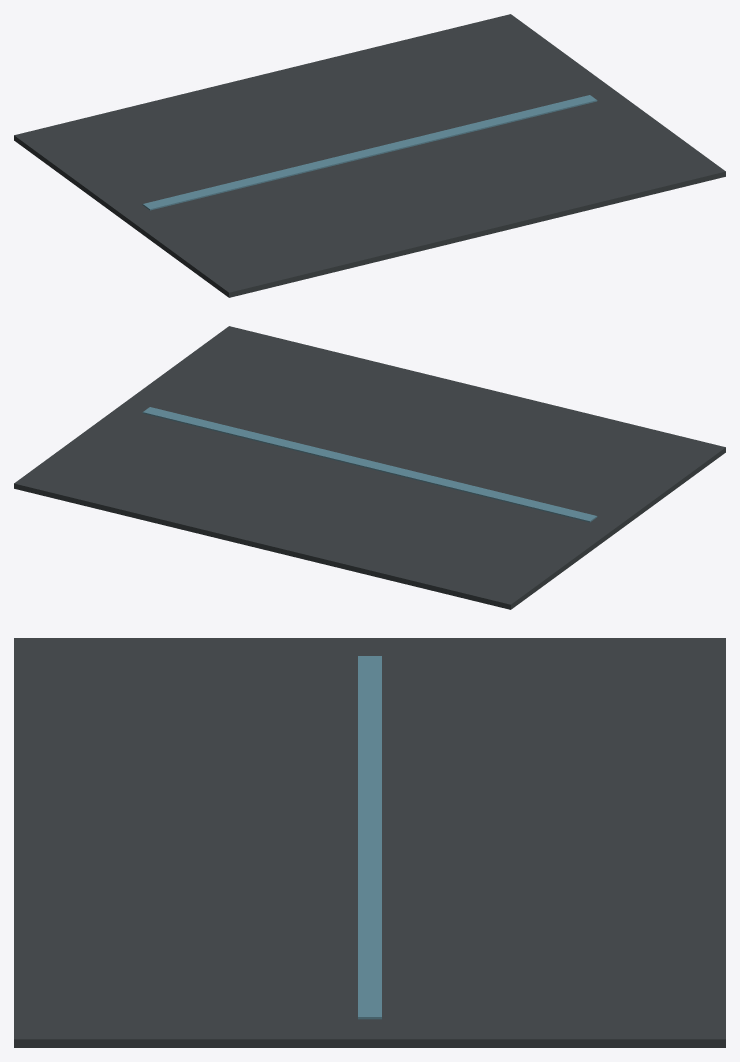
File: endurance-and-gt-paddock-pit-floor-mat-7ffbe3b4__14952.glb
3 renders of one model, top to bottom at view 1: azimuth 30°, elevation 25°; view 2: azimuth 150°, elevation 25°; view 3: azimuth 270°, elevation 25°, orthographic. The views are drawn at different scales.
Parts seen in each view (by area): view 1: pit-floor-mat; view 2: pit-floor-mat; view 3: pit-floor-mat.
Boxes of the visible parts, <box> form: pit-floor-mat: <box>14,14,725,297</box>; pit-floor-mat: <box>14,326,725,609</box>; pit-floor-mat: <box>14,638,725,1047</box>.
Bounding box in the file's own units: 2 × 0.025 × 1.5.
